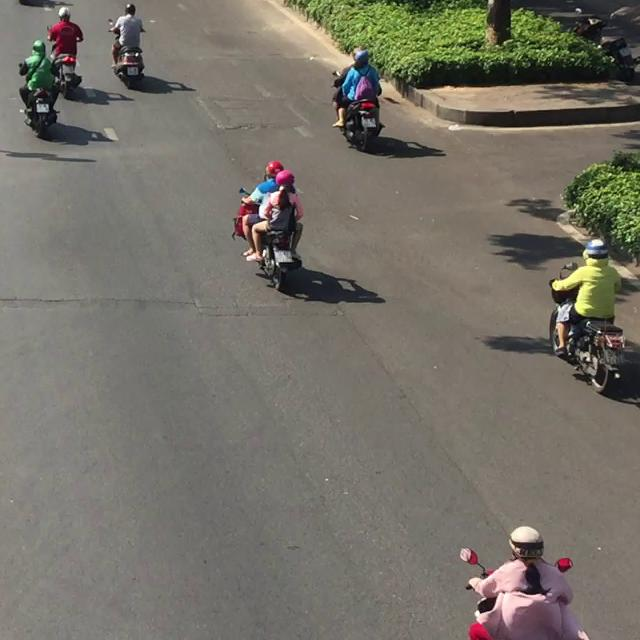Motorcycle: (547, 263, 624, 393), (231, 187, 302, 290), (330, 69, 385, 152), (17, 56, 63, 138), (107, 18, 146, 89), (49, 21, 83, 100)
